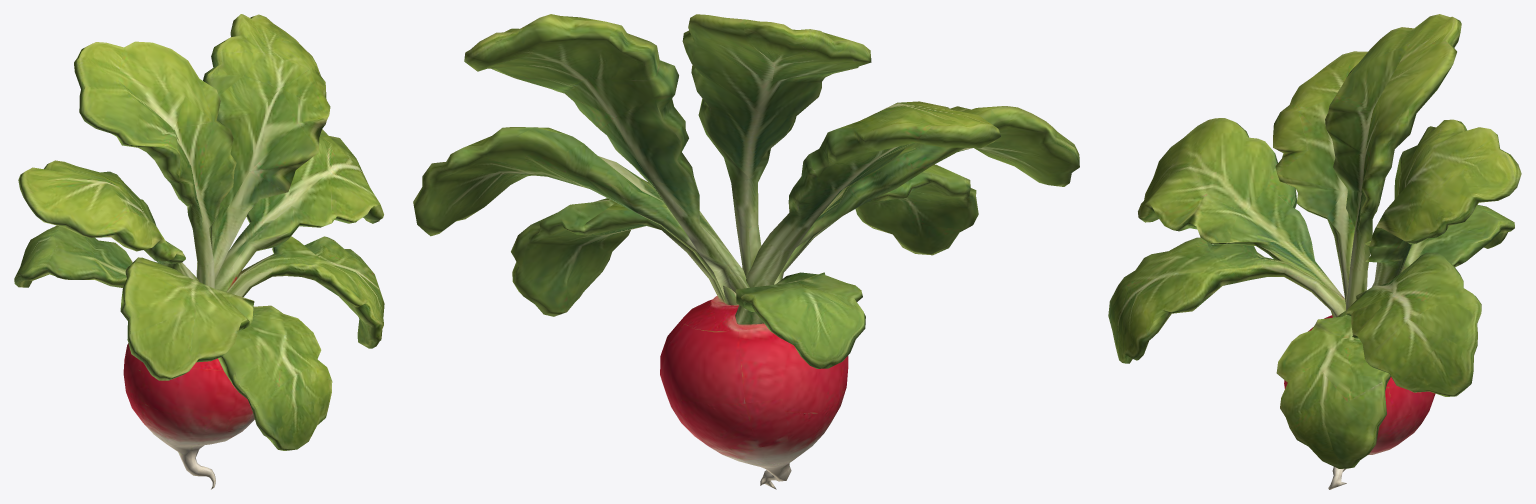
The model's file is crop_radish_3.glb.
The picture shows the model from 3 angles, left to right: view 1: azimuth 30°, elevation 25°; view 2: azimuth 150°, elevation 25°; view 3: azimuth 270°, elevation 25°; orthographic projection. The views are drawn at different scales.
Visible parts, largest first — view 1: crop_radish_3; view 2: crop_radish_3; view 3: crop_radish_3.
Boxes of the visible parts, x1=… form: crop_radish_3: x1=14, y1=14, x2=384, y2=489; crop_radish_3: x1=413, y1=14, x2=1079, y2=489; crop_radish_3: x1=1108, y1=14, x2=1521, y2=489.
Size of the model in its own units: 0.92 by 0.9424 by 0.8006.
Materials: 1 (1 with a texture image).
